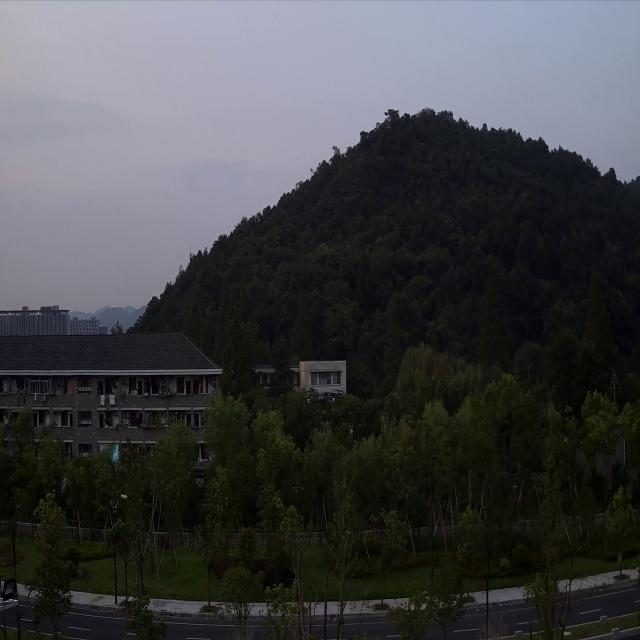UAV: (302, 385, 342, 403)
